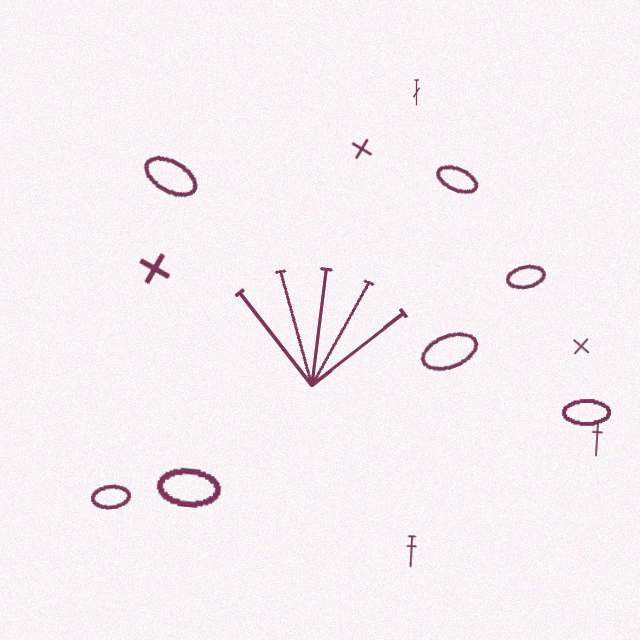chain: (136, 147, 204, 206), (415, 324, 483, 378), (154, 464, 224, 510), (431, 159, 482, 200), (503, 261, 549, 293), (561, 398, 611, 427), (89, 482, 133, 511)
double: (412, 79, 421, 106)
fan: (219, 239, 421, 400)
half_double: (589, 420, 605, 457), (404, 535, 418, 568)
single: (133, 247, 175, 289), (348, 135, 375, 162), (570, 335, 592, 357)
